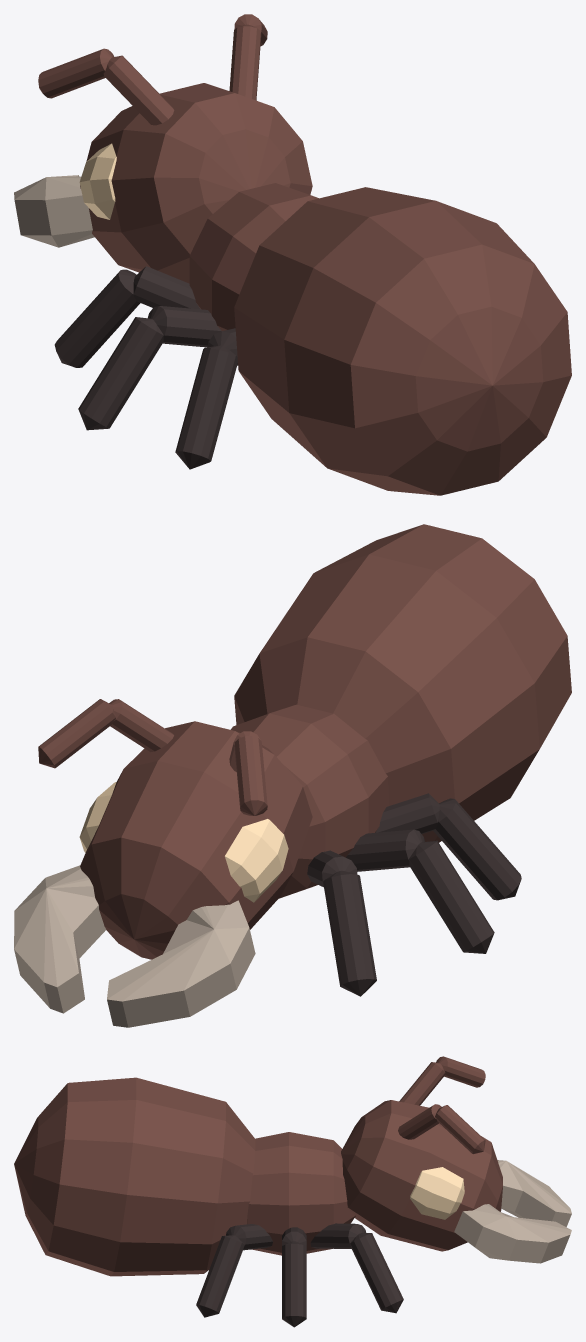
File: ant.glb
3 views of the same model, one above another, from view 1: azimuth 30°, elevation 25°; view 2: azimuth 150°, elevation 25°; view 3: azimuth 270°, elevation 25° (orthographic). The views are drawn at different scales.
Parts seen in each view (by area): view 1: BackAbdomen, Head, cylinder (×8), MiddleAbdomen, RightFang, Eyes; view 2: BackAbdomen, Head, cylinder (×9), MiddleAbdomen, RightFang, LeftFang, Eyes; view 3: BackAbdomen, Head, cylinder (×10), MiddleAbdomen, LeftFang, RightFang, Eyes.
Part boxes in pixels (box(x1,y1,x2,y2)): BackAbdomen: box(234, 187, 571, 495); Head: box(80, 83, 312, 283); cylinder (×8): box(38, 24, 261, 469); MiddleAbdomen: box(189, 183, 318, 330); RightFang: box(14, 175, 94, 247); Eyes: box(79, 143, 116, 219); BackAbdomen: box(234, 524, 571, 842); Head: box(80, 721, 312, 959); cylinder (×9): box(38, 699, 521, 996); MiddleAbdomen: box(230, 704, 388, 898); RightFang: box(107, 900, 255, 1027); LeftFang: box(14, 865, 106, 1013); Eyes: box(79, 782, 288, 902); BackAbdomen: box(14, 1077, 255, 1276); Head: box(341, 1100, 502, 1251); cylinder (×10): box(196, 1056, 485, 1327); MiddleAbdomen: box(247, 1132, 355, 1255); LeftFang: box(454, 1204, 571, 1263); RightFang: box(497, 1160, 571, 1227); Eyes: box(410, 1167, 464, 1219).
Size of the model in its own units: 1.61 by 1.03 by 2.84.
Materials: 1 (1 with a texture image).
